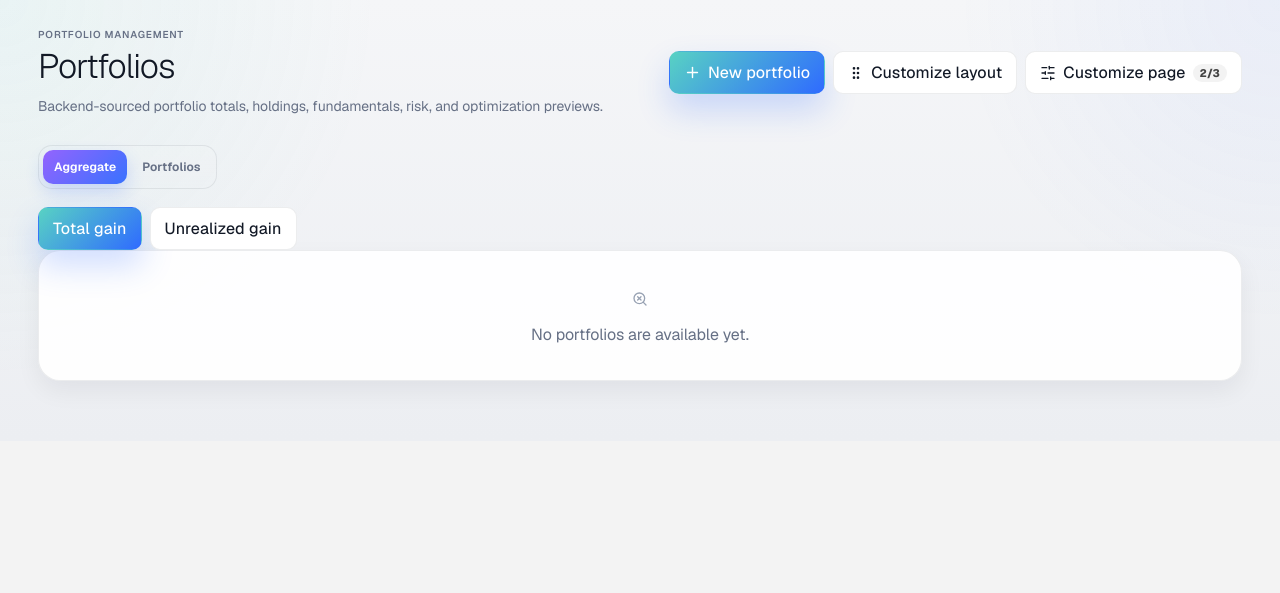
PortfolioWorkspacePage › creates a standalone portfolio from the portfolio workspace
Click the button "New portfolio" at (747, 72), box [669,51,825,94]
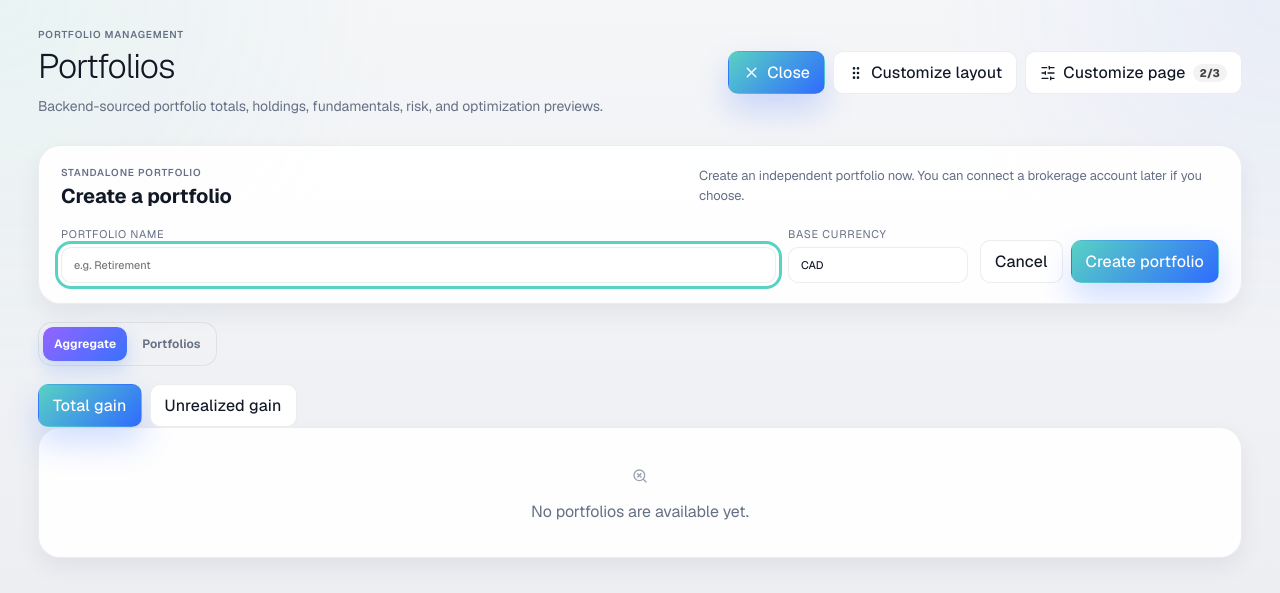
Type "Retirement" into the field labelled "Portfolio name" at (418, 265), box [61,247,776,283]
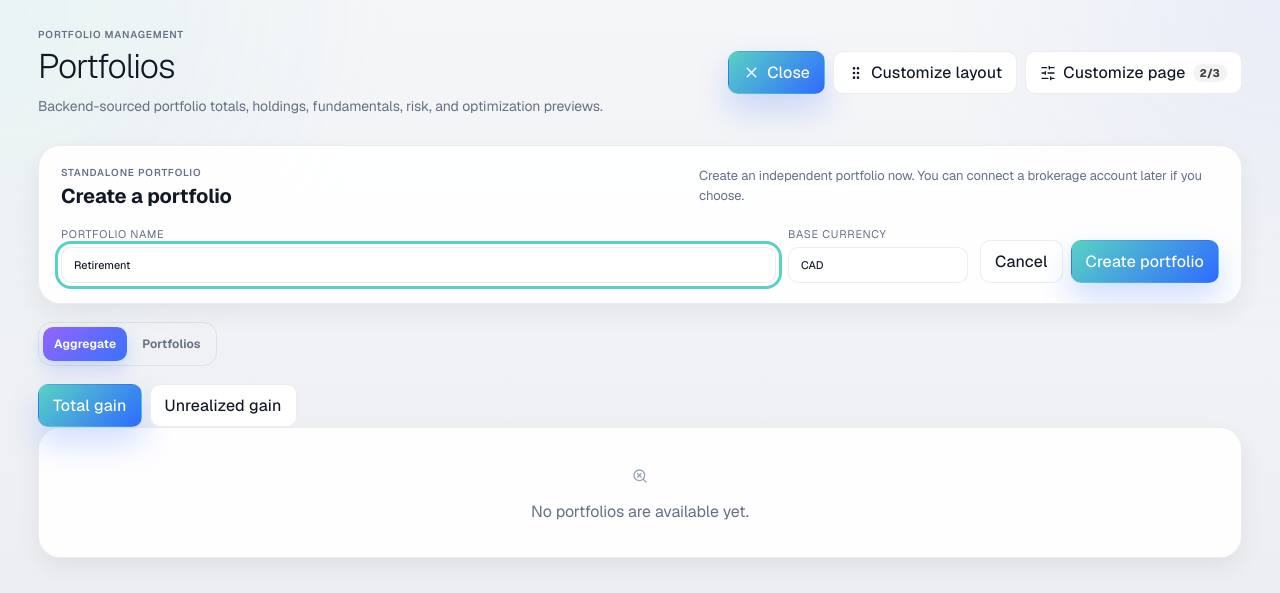
Replace the text in the field labelled "Base currency" with "usd" at (878, 265), box [788,247,968,283]
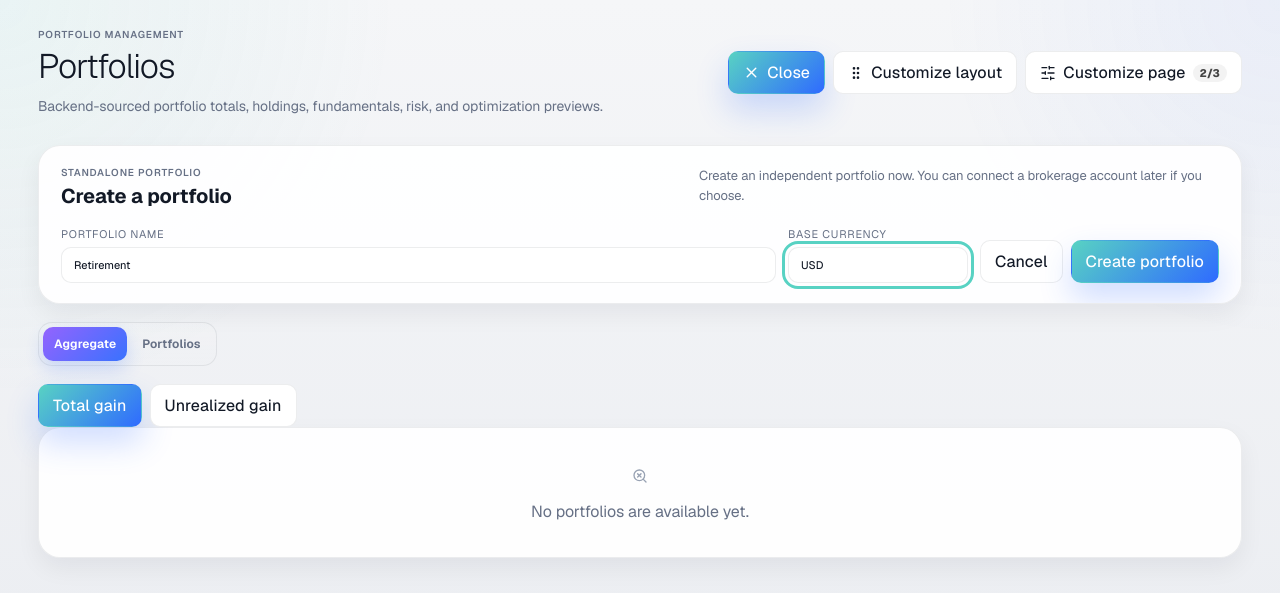
Click the button "Create portfolio" at (1145, 262), box [1070,240,1219,283]
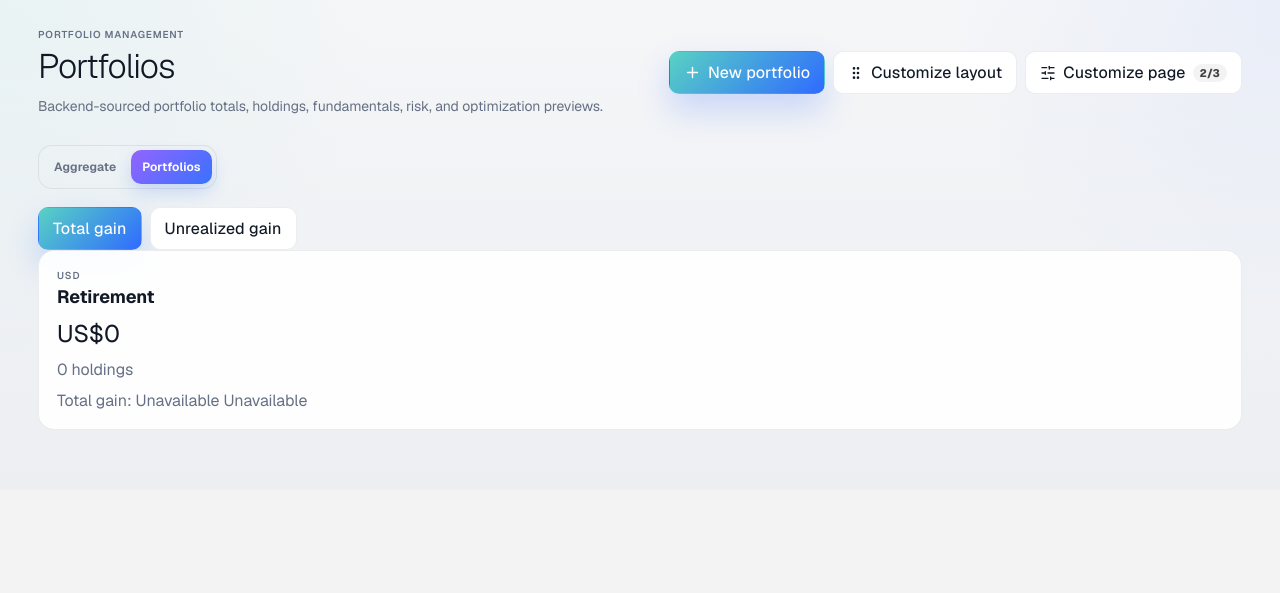
Expected: the link with aria-label "Open Retirement portfolio" is shown, [38,250,1242,430]
Expected: the heading "Create a portfolio" is gone
